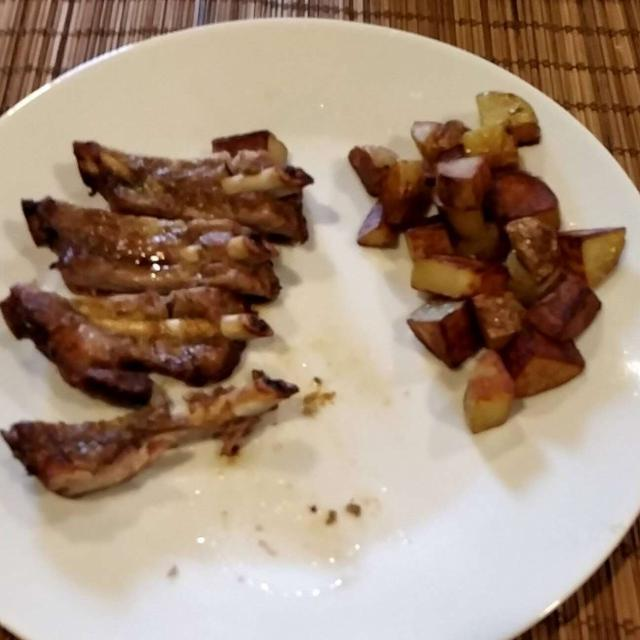fries: (338, 85, 606, 429)
